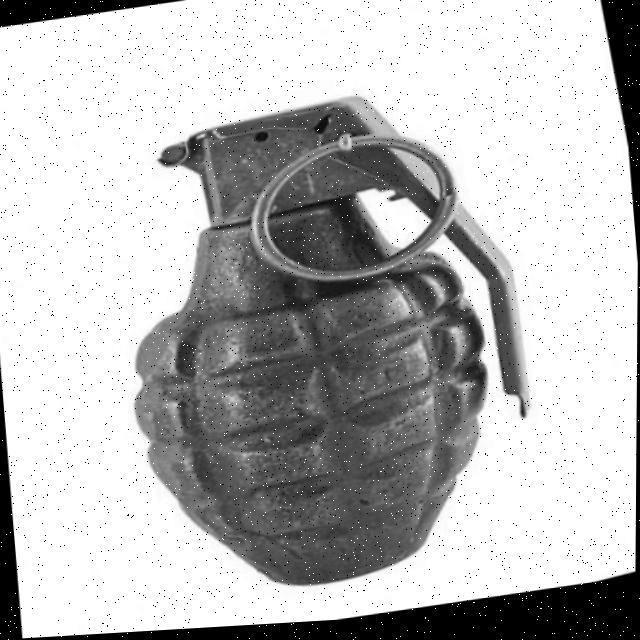grenade: (75, 45, 587, 636)
